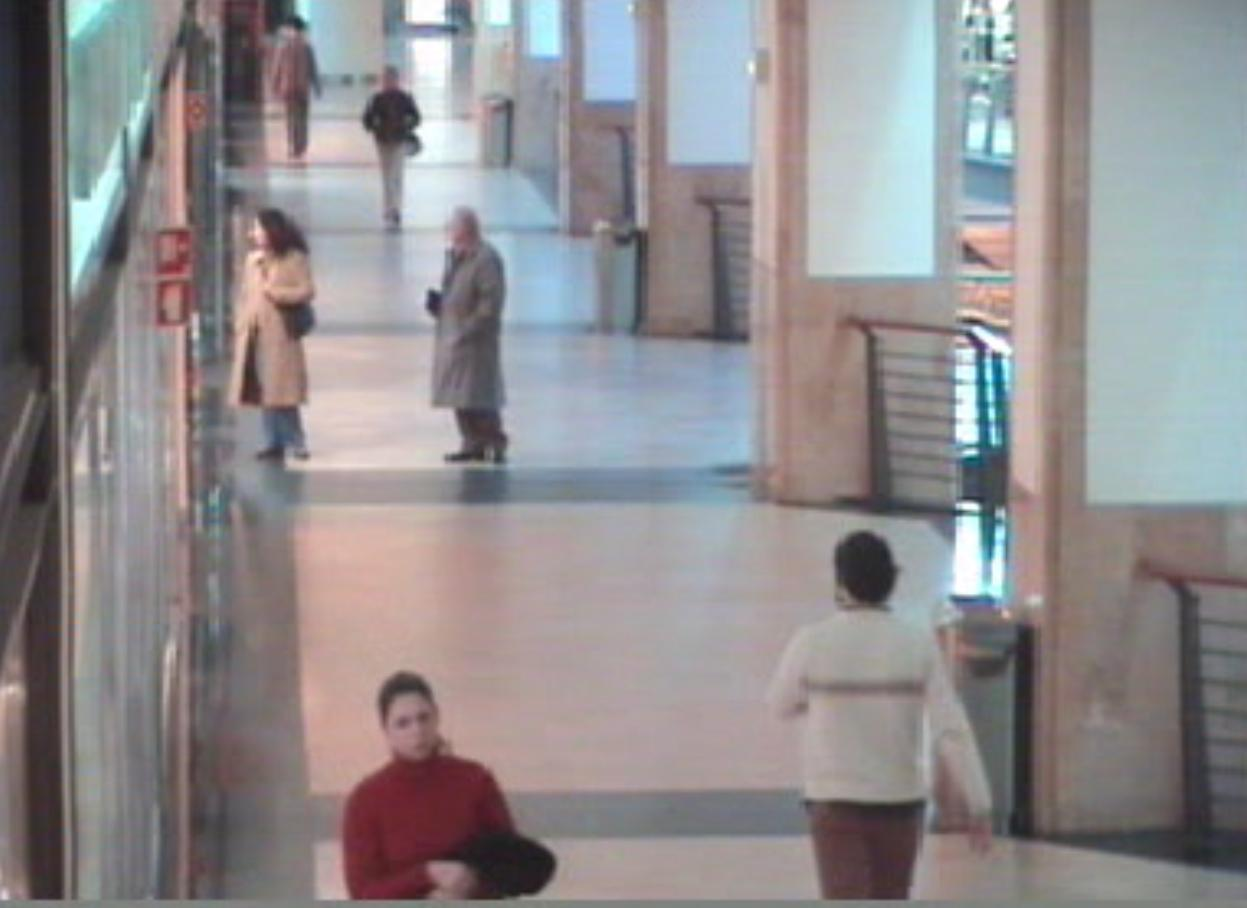person: (746, 512, 1010, 908), (316, 648, 592, 908), (212, 202, 322, 490), (426, 194, 526, 476), (344, 48, 430, 244), (260, 4, 324, 162)
